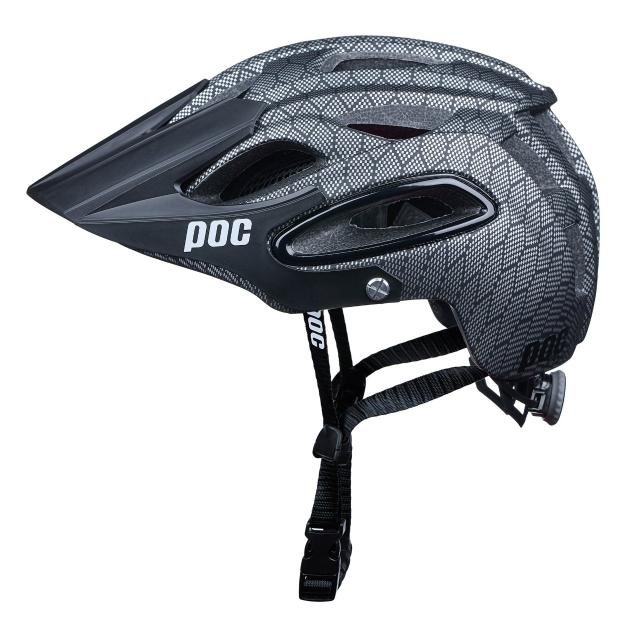Helmet: (24, 31, 604, 604)
